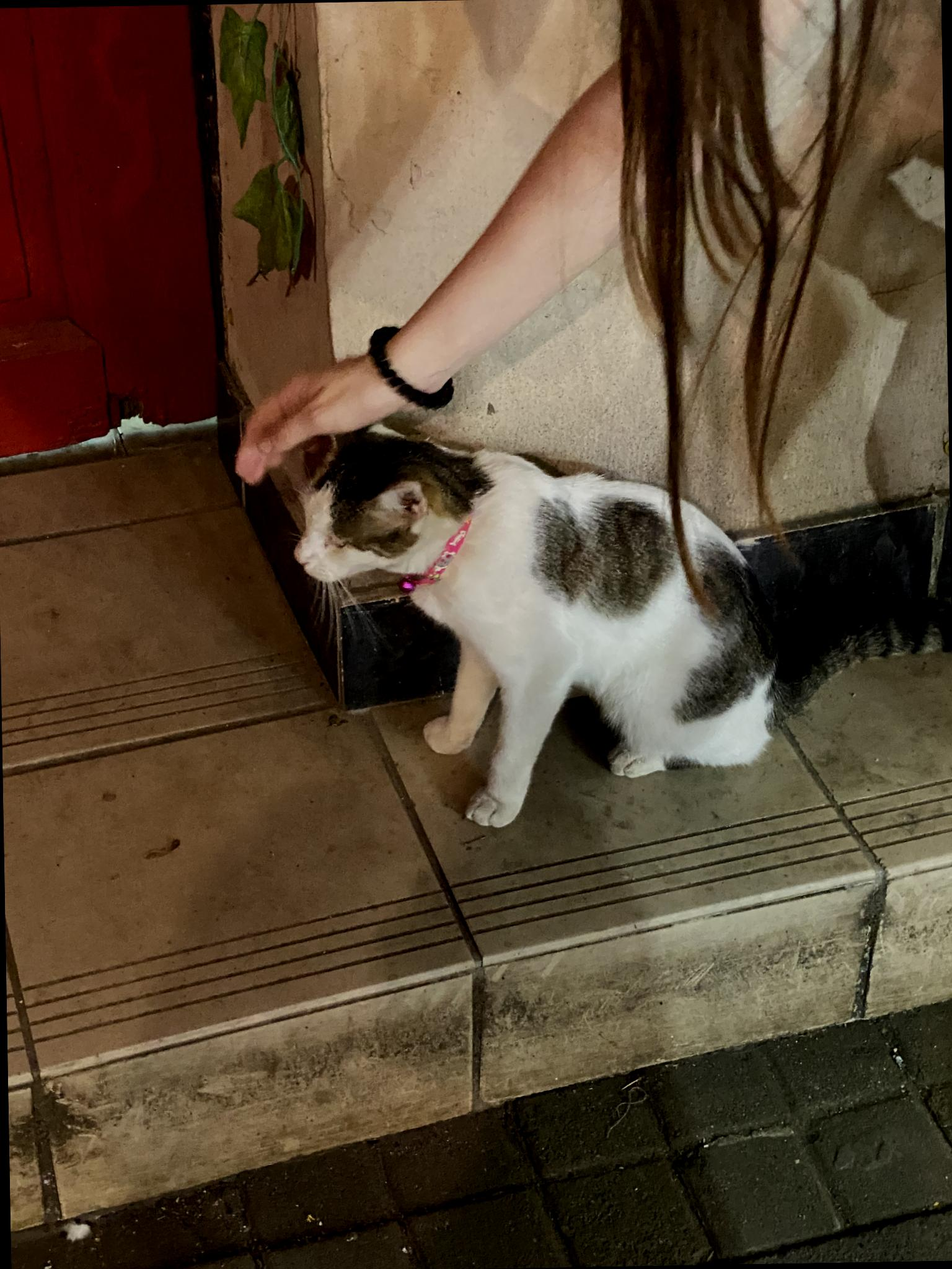macka: (289, 420, 952, 836)
